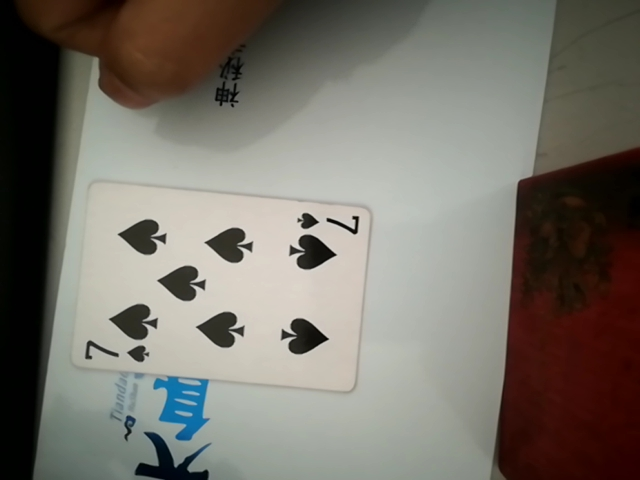ht 7: (72, 178, 373, 401)
